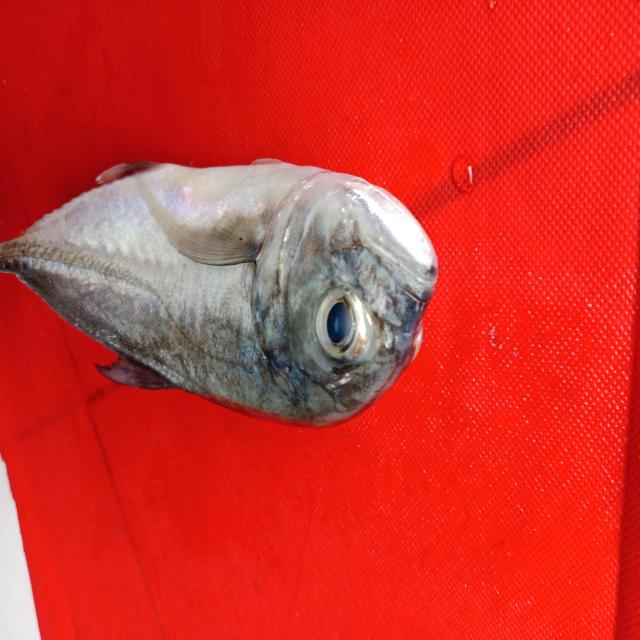ikan: (8, 136, 481, 460)
